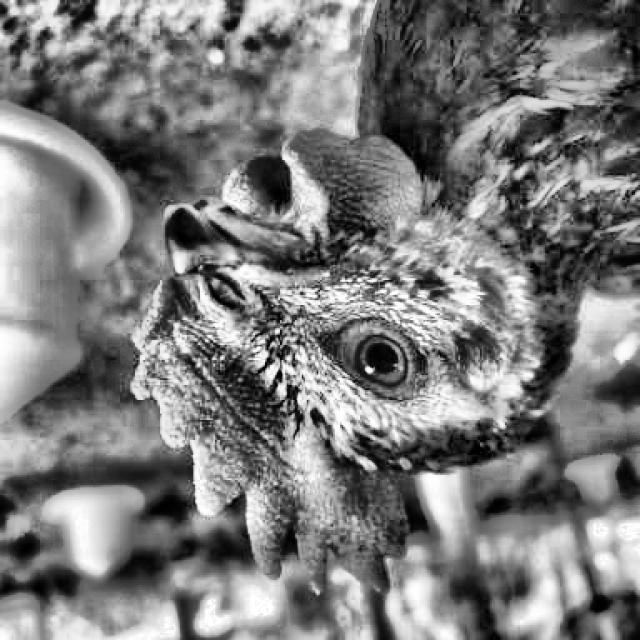Healthy: (324, 306, 454, 402)
